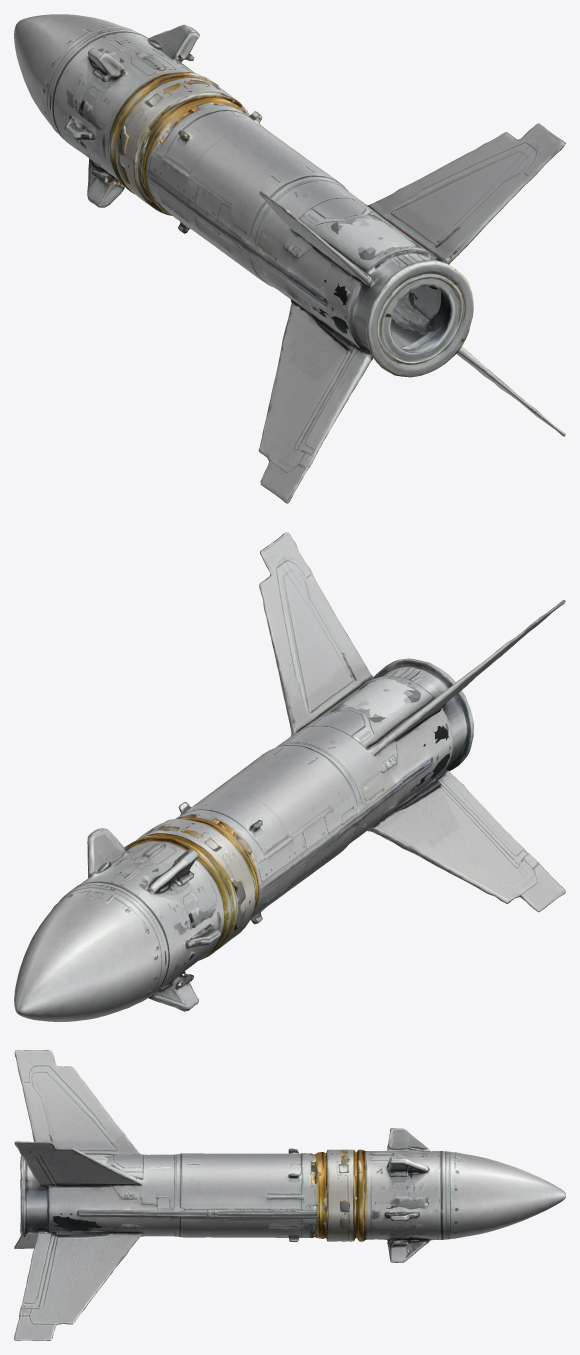
3 views of the same model, one above another, from view 1: azimuth 30°, elevation 25°; view 2: azimuth 150°, elevation 25°; view 3: azimuth 270°, elevation 25° (orthographic). The views are drawn at different scales.
Size of the model in its own units: 0.3987 by 0.4003 by 1.
1 material, 1 textured.
